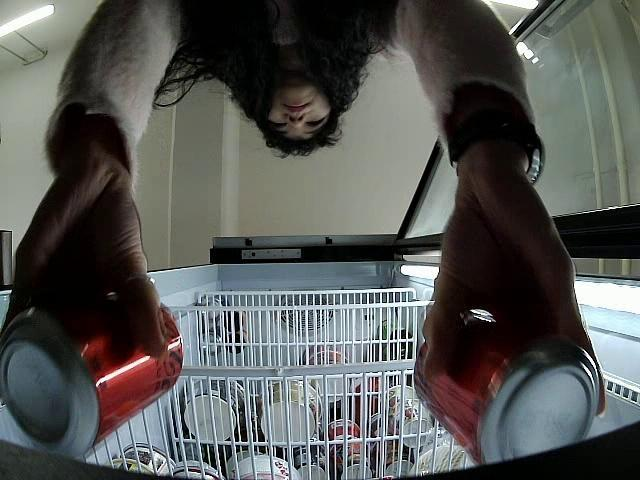11_cocaColaZero: (410, 314, 599, 467), (1, 297, 182, 456)
